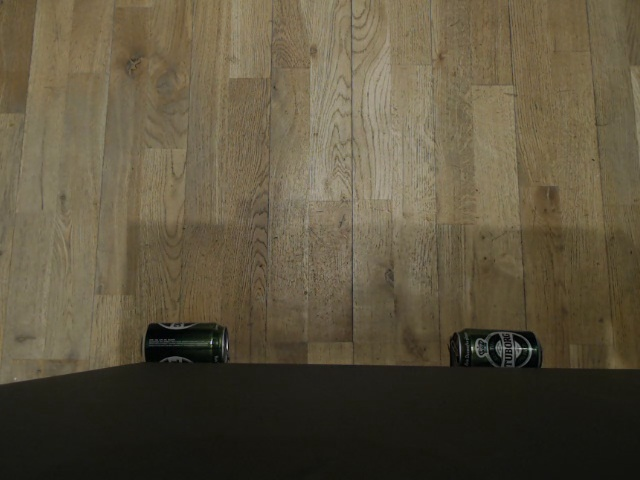beer: (446, 325, 543, 369), (142, 322, 230, 362)
